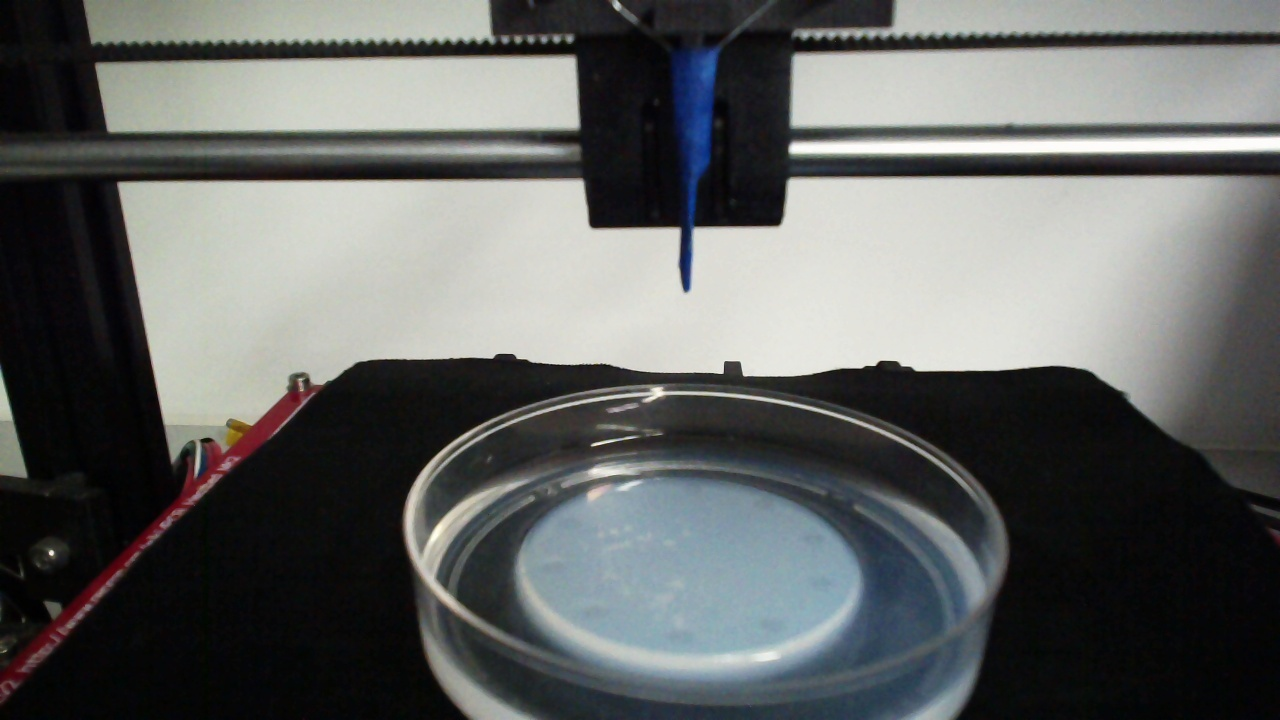groove: (758, 614, 787, 635), (582, 604, 613, 620), (665, 629, 696, 645), (538, 560, 565, 577), (556, 517, 583, 533), (800, 532, 828, 547), (809, 577, 834, 593), (681, 482, 705, 497), (753, 496, 776, 511)
needle: (674, 51, 718, 293)
